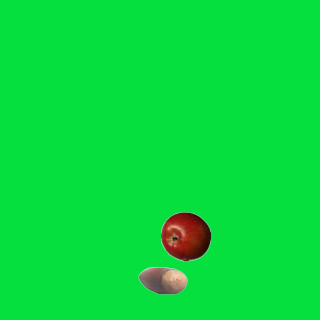Apple Braeburn: (160, 211, 210, 261)
Hazelnut: (137, 255, 187, 305)
